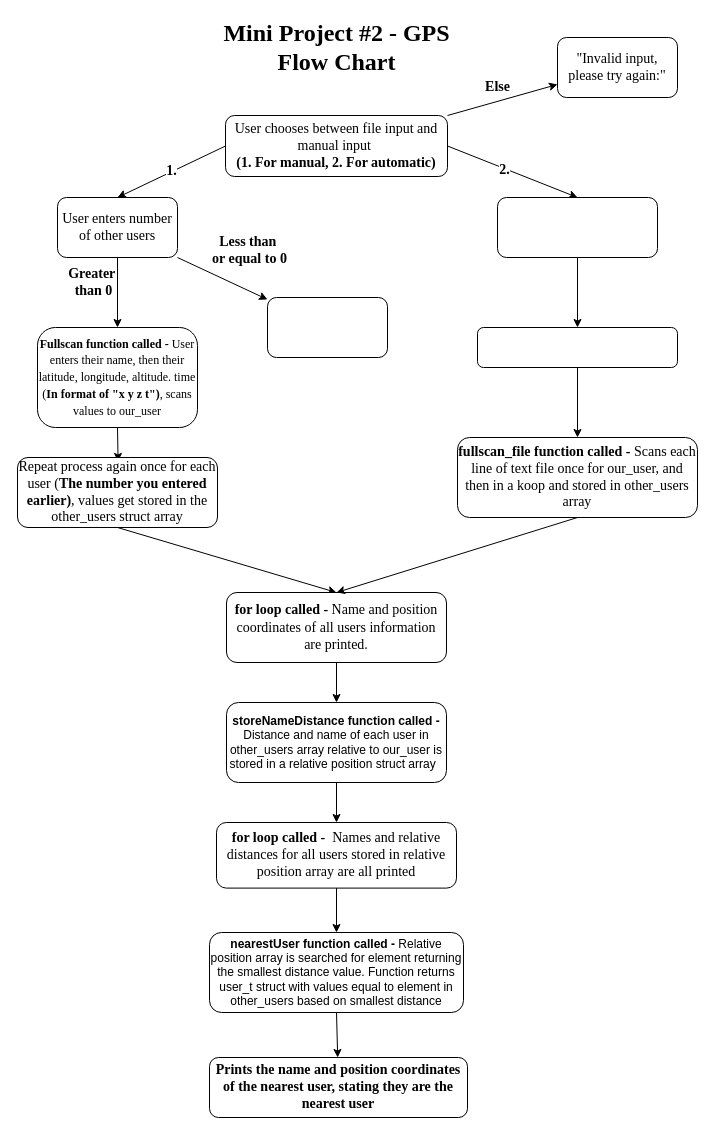
Some shapes in this 715 by 1135 pixel diagram are drawn without their labels. Each missing label, with the box of its shape:
"Invalid input, please try again": (266, 296, 388, 358)
Enter the file directory for the text file you wish to read: (496, 196, 658, 258)
First number is read for the number of users: (476, 326, 678, 368)
